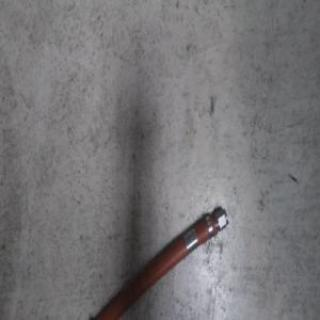Hosetrack_idkeyframe: (72, 202, 229, 319)
